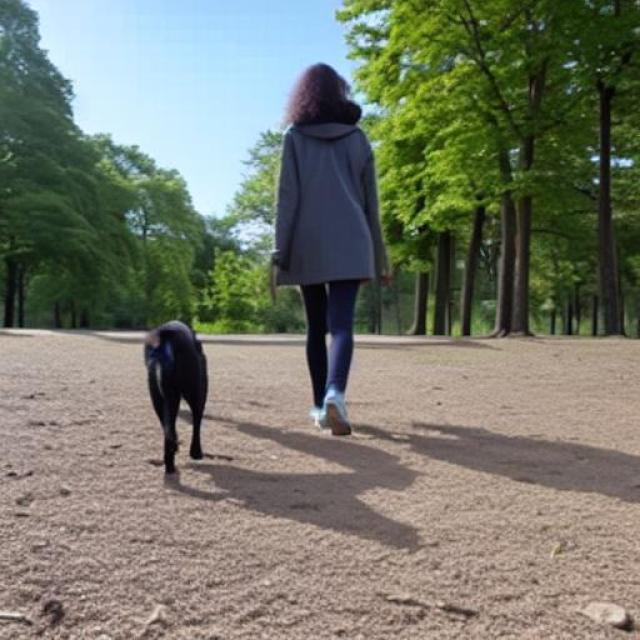Unleashed_Dog: (144, 229, 364, 476)
